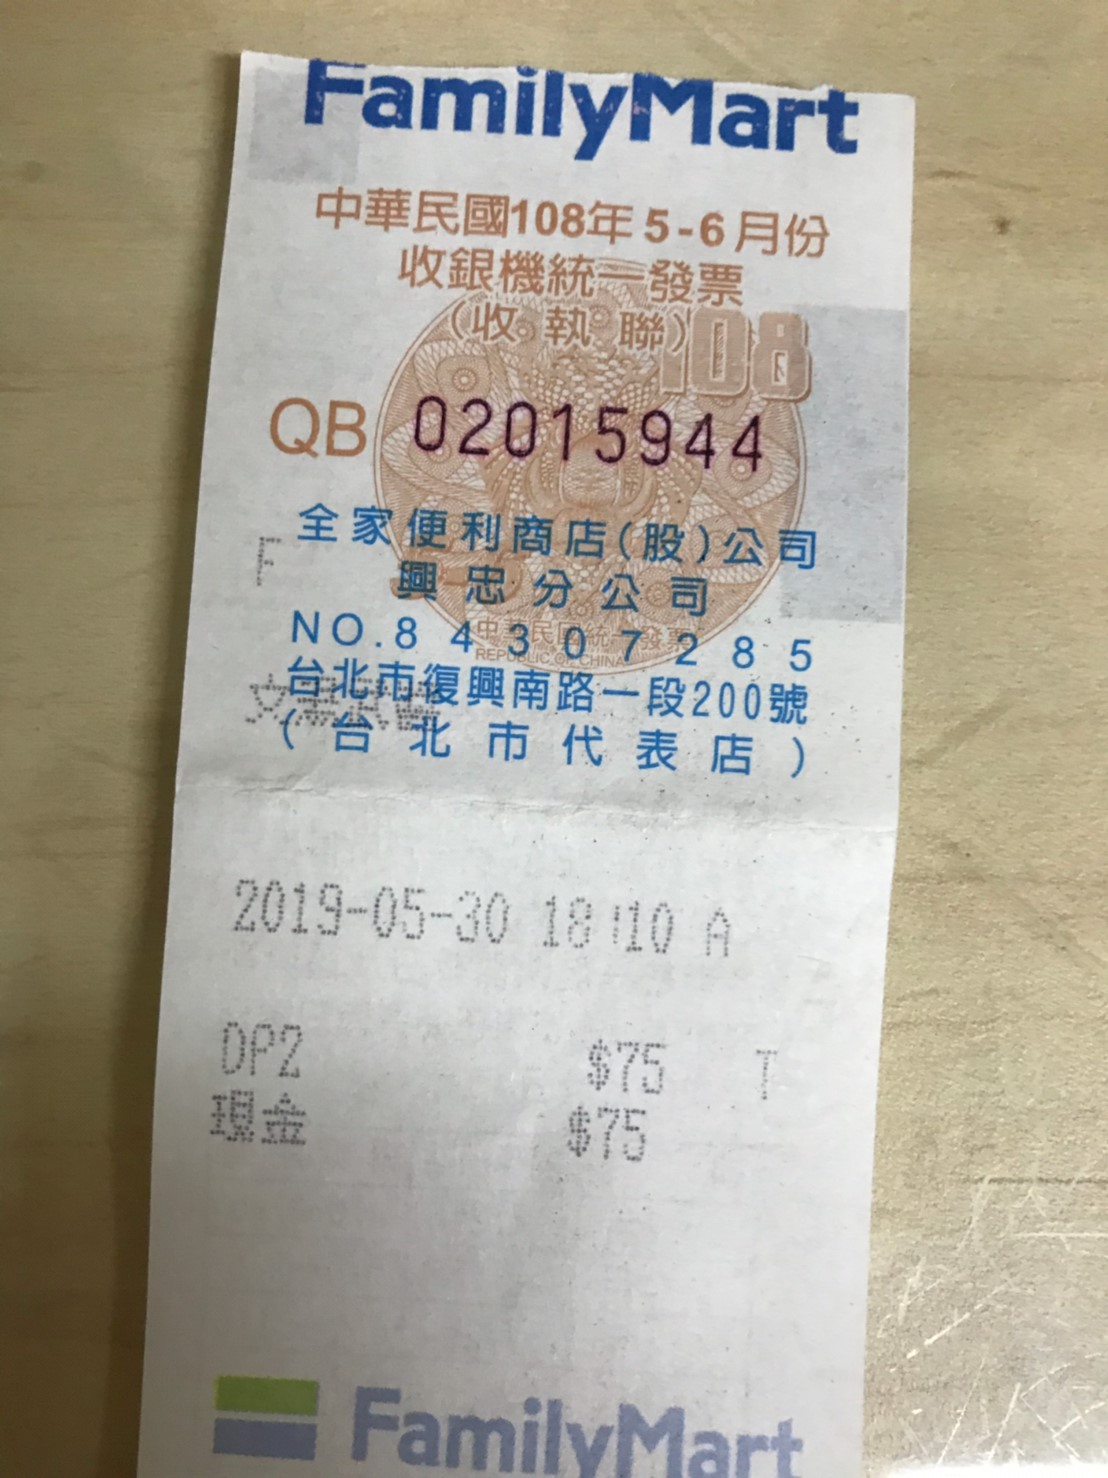Date_Old: (510, 196, 834, 265)
Number_Old: (411, 388, 770, 475)
